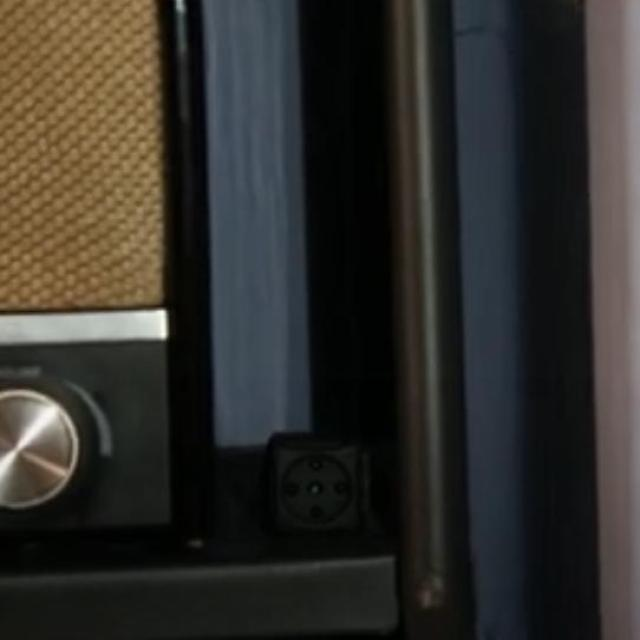hidden camera: (307, 483, 327, 498)
